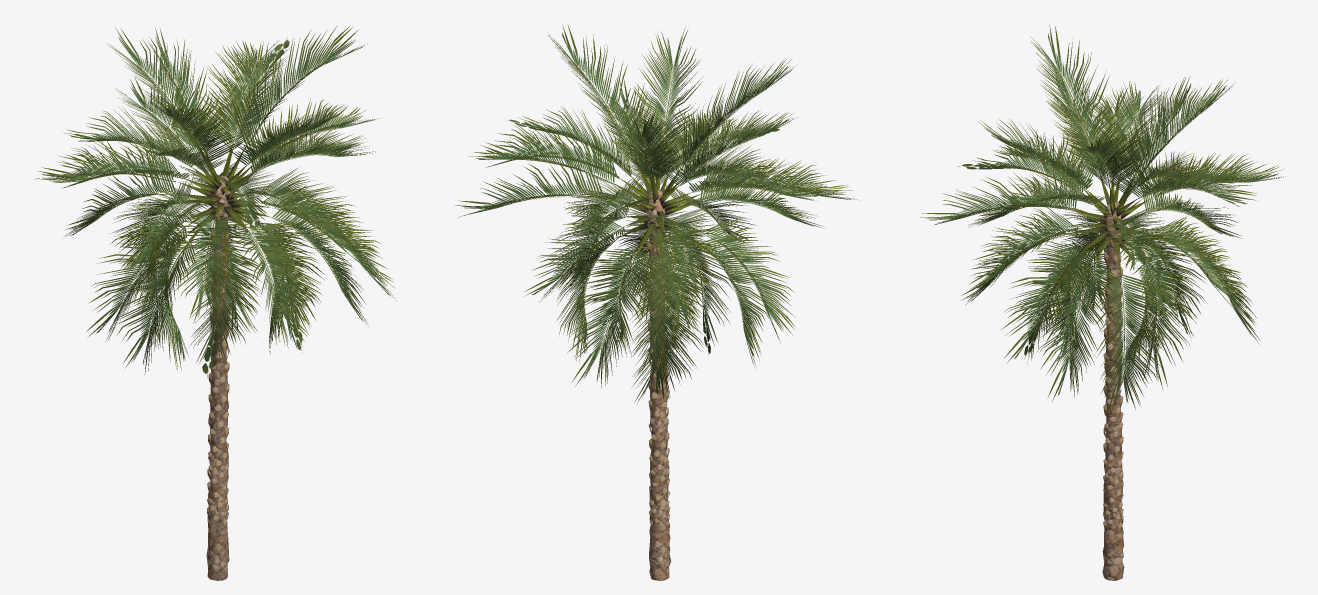
Rendered from date_palm.glb.
3 views of the same model, side by side, from view 1: azimuth 30°, elevation 25°; view 2: azimuth 150°, elevation 25°; view 3: azimuth 270°, elevation 25° (orthographic). The views are drawn at different scales.
Parts seen in each view (by area): view 1: Tree_1_Tree_1Mat_0, Tree_0_Tree_0Mat_0, Tree_3_Tree_3Mat_0, Tree_2_Tree_2Mat_0; view 2: Tree_1_Tree_1Mat_0, Tree_0_Tree_0Mat_0, Tree_3_Tree_3Mat_0, Tree_2_Tree_2Mat_0; view 3: Tree_1_Tree_1Mat_0, Tree_0_Tree_0Mat_0, Tree_2_Tree_2Mat_0, Tree_3_Tree_3Mat_0.
Boxes of the visible parts, x1,y1,x2,y2 form: Tree_1_Tree_1Mat_0: [34, 25, 395, 377]; Tree_0_Tree_0Mat_0: [206, 175, 230, 580]; Tree_3_Tree_3Mat_0: [177, 133, 270, 264]; Tree_2_Tree_2Mat_0: [207, 228, 230, 527]; Tree_1_Tree_1Mat_0: [455, 24, 858, 404]; Tree_0_Tree_0Mat_0: [647, 190, 671, 580]; Tree_3_Tree_3Mat_0: [607, 160, 713, 268]; Tree_2_Tree_2Mat_0: [647, 242, 670, 529]; Tree_1_Tree_1Mat_0: [920, 24, 1285, 414]; Tree_0_Tree_0Mat_0: [1102, 202, 1124, 580]; Tree_2_Tree_2Mat_0: [1103, 252, 1123, 531]; Tree_3_Tree_3Mat_0: [1069, 164, 1178, 272].
Size of the model in its own units: 5.46 by 7.34 by 5.21.
Materials: 4 (4 with a texture image).
